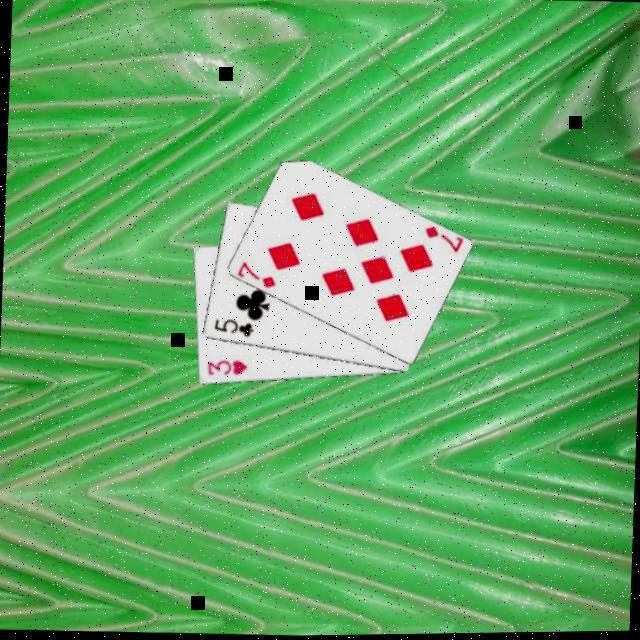3H: (202, 358, 247, 381)
5C: (208, 318, 253, 343)
7D: (418, 224, 462, 260), (232, 259, 277, 294)
